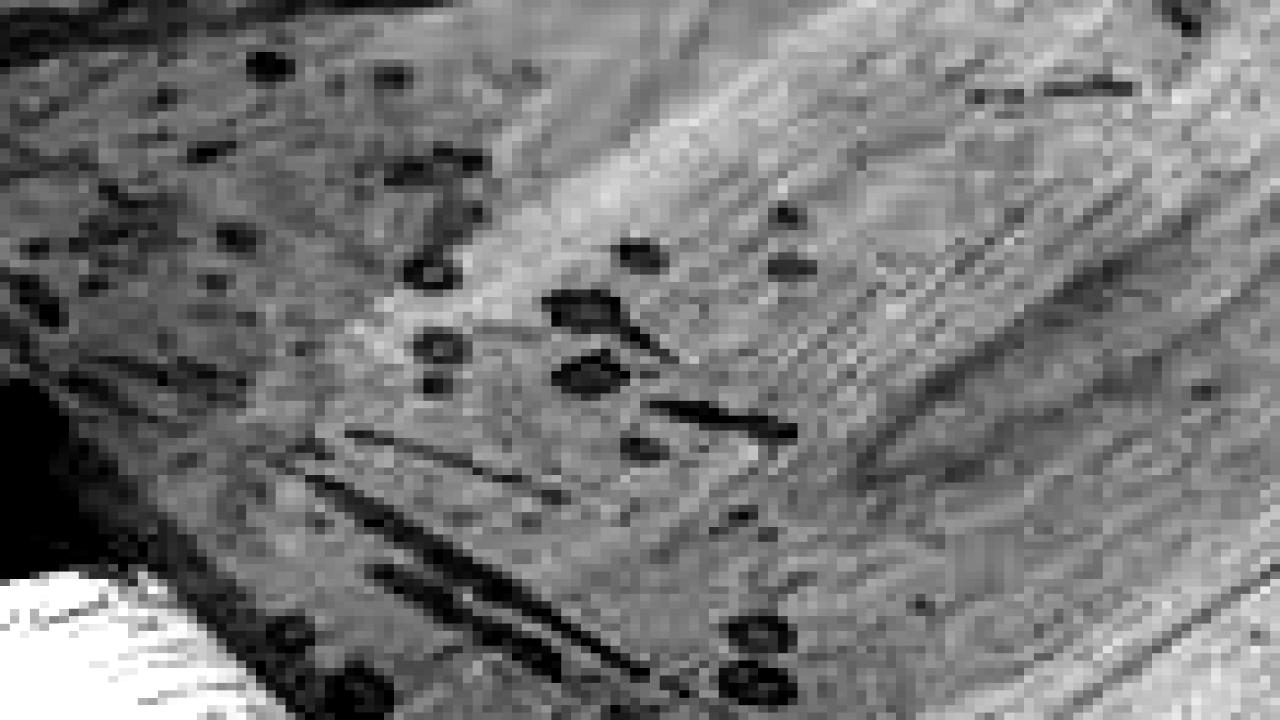drinks Stains: (0, 66, 876, 423), (275, 467, 866, 720)
